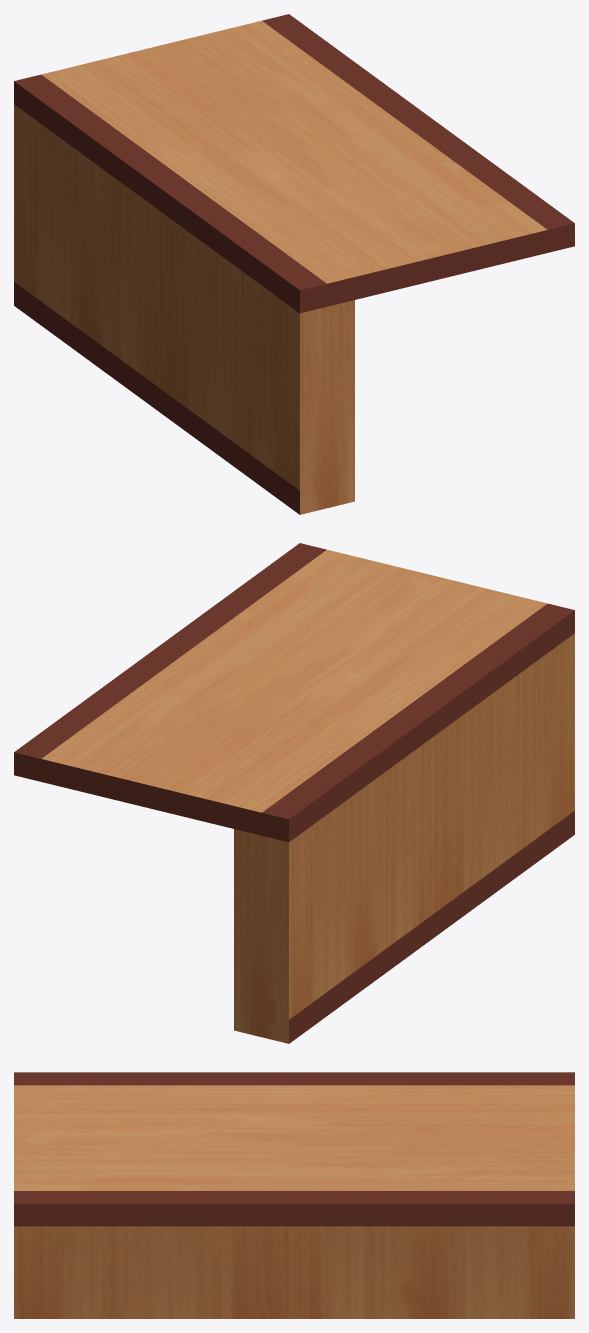
Rendered from conference table3_B.FBX.
3 renders of one model, top to bottom at view 1: azimuth 30°, elevation 25°; view 2: azimuth 150°, elevation 25°; view 3: azimuth 270°, elevation 25°, orthographic.
Visible parts, largest first — view 1: conference table3_B; view 2: conference table3_B; view 3: conference table3_B.
Part boxes in pixels (x1=…): conference table3_B: x1=14, y1=14, x2=574, y2=514; conference table3_B: x1=14, y1=543, x2=574, y2=1043; conference table3_B: x1=14, y1=1072, x2=574, y2=1318.
Size of the model in its own units: 10 by 7.8 by 18.
